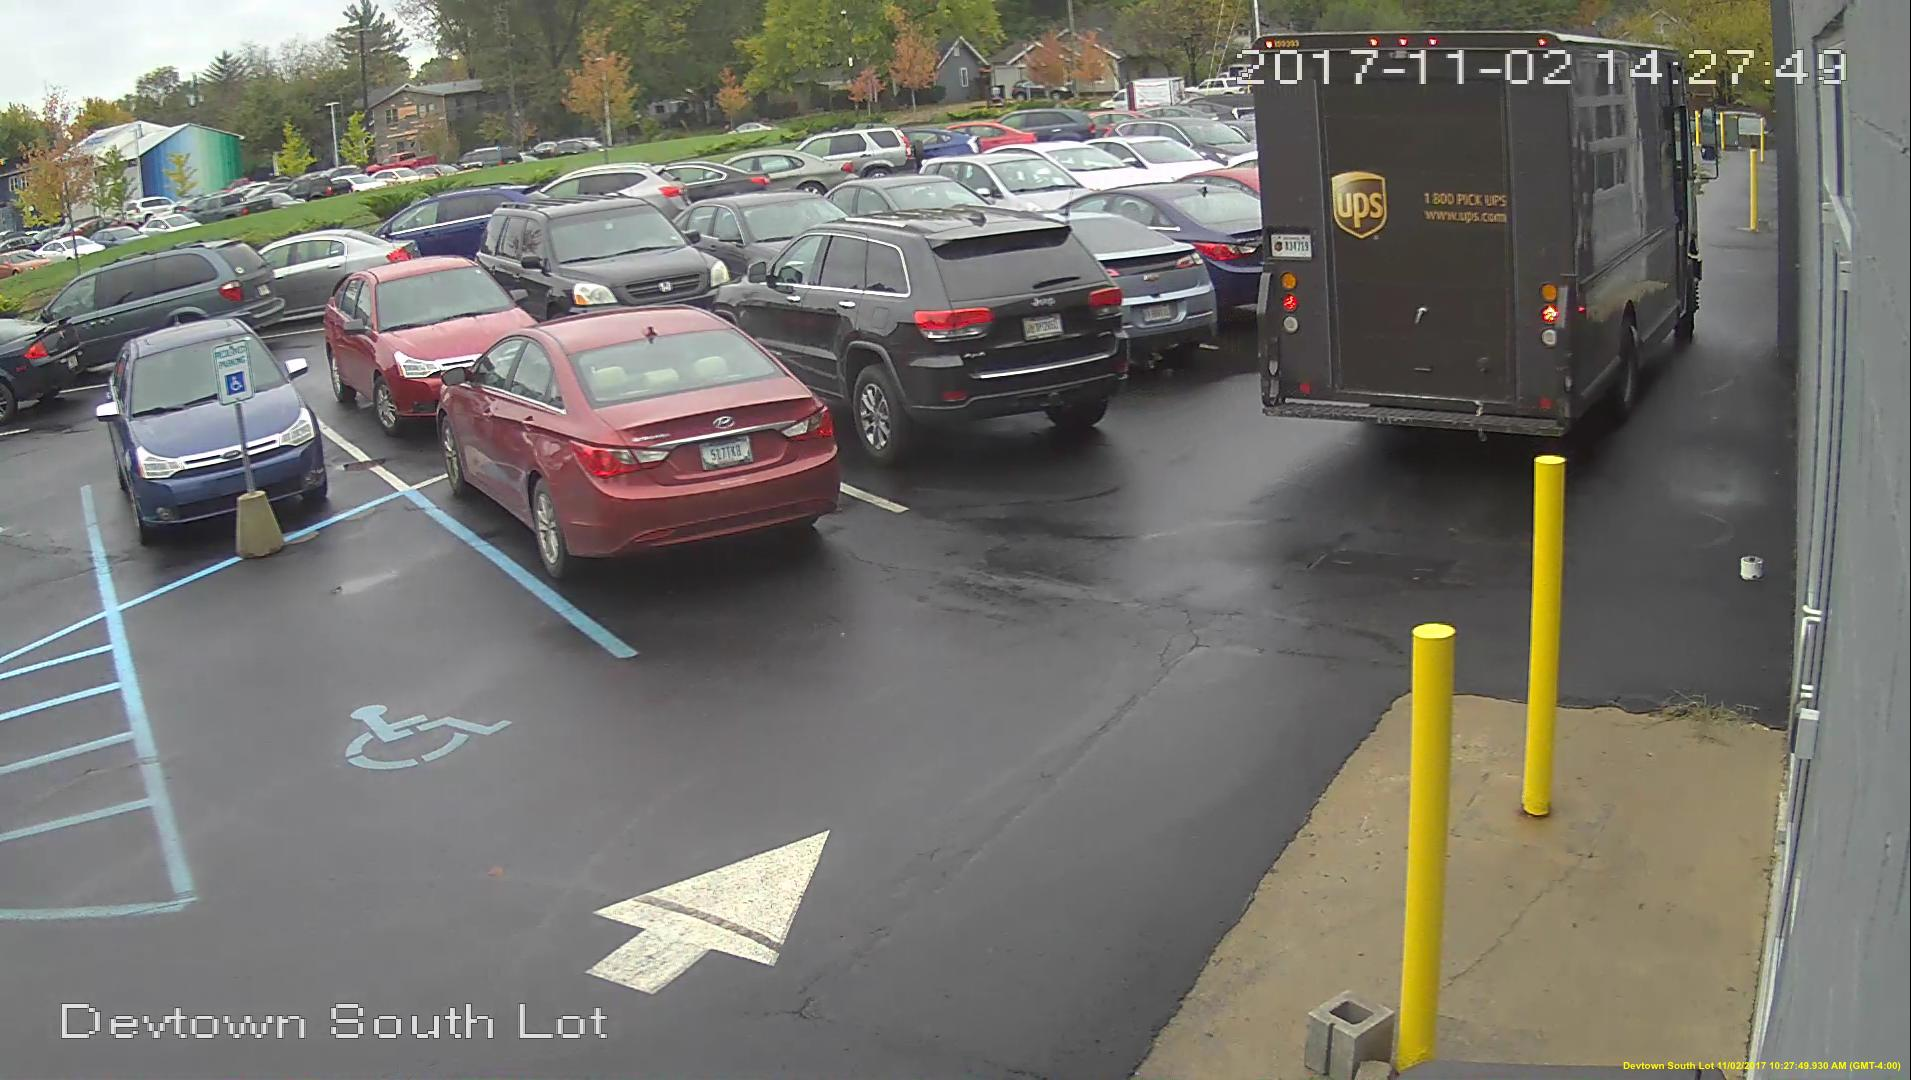ups_truck: (1257, 31, 1715, 454)
